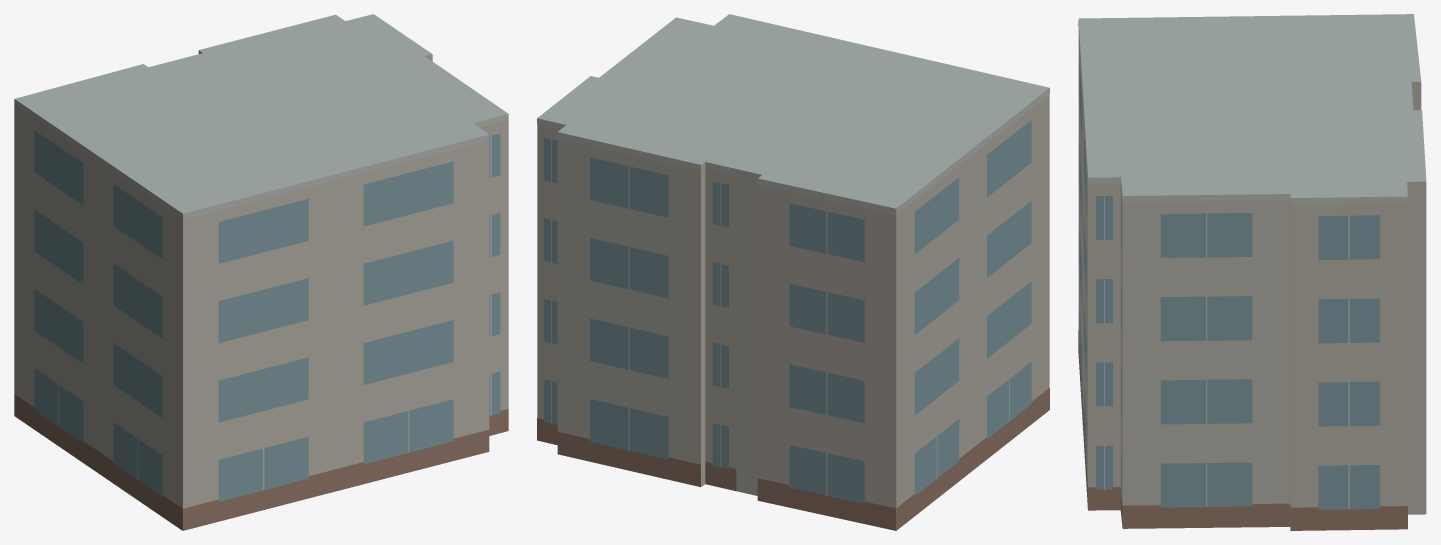
File: survey-upis-32616741.glb
3 views of the same model, side by side, from view 1: azimuth 30°, elevation 25°; view 2: azimuth 150°, elevation 25°; view 3: azimuth 270°, elevation 25° (orthographic). The views are drawn at different scales.
Visible parts, largest first — view 1: survey-upis-32616741.tmp; view 2: survey-upis-32616741.tmp; view 3: survey-upis-32616741.tmp.
Boxes of the visible parts, box(x1,y1,x2,y2) form: survey-upis-32616741.tmp: box(14, 14, 508, 530); survey-upis-32616741.tmp: box(537, 14, 1049, 530); survey-upis-32616741.tmp: box(1078, 14, 1426, 530).
Bounding box in the file's own units: 15.49 × 13.05 × 12.38.
